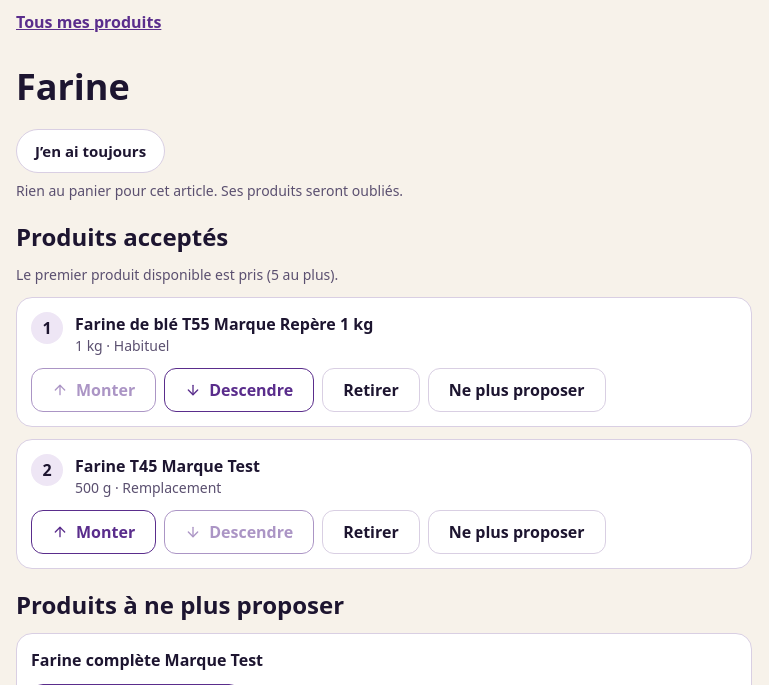
Scenario: Mes produits : un ingrédient › annule les modifications : l’état lu revient
The image size is (769, 685).
Click the button "Descendre" below "Farine de blé T55 Marque Repère 1 kg".
click(239, 390)  # box [164, 368, 314, 412]
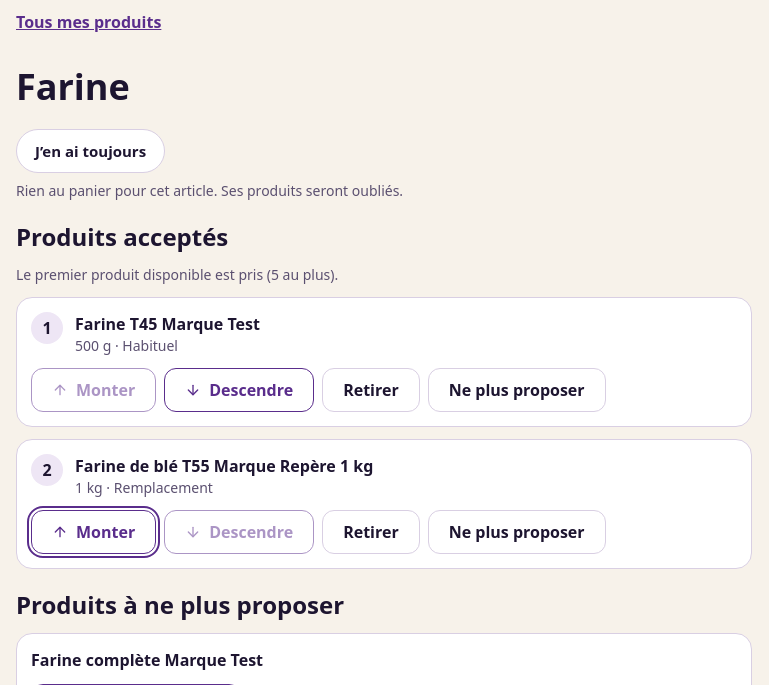
Click the button "Retirer" below "Farine T45 Marque Test".
click(371, 390)  # box [322, 368, 420, 412]
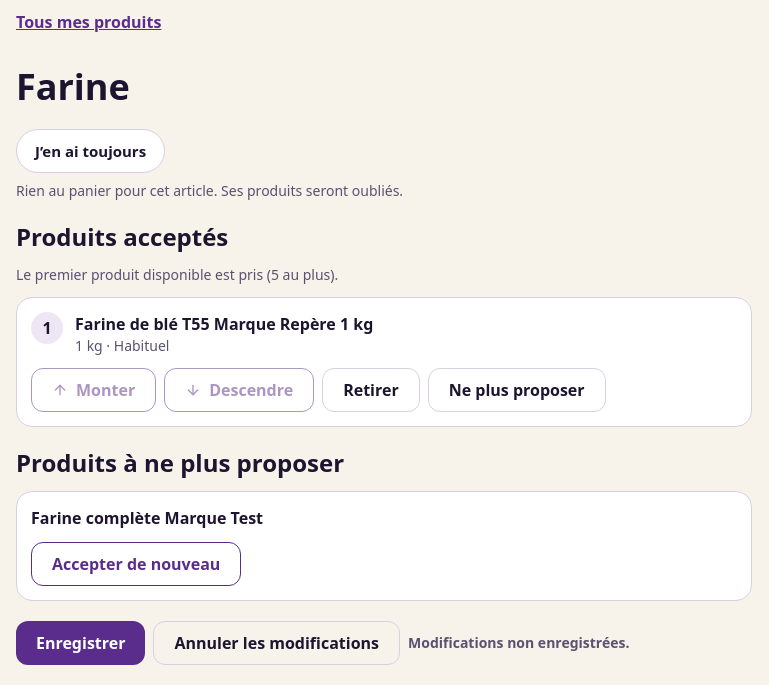
Click the button "Annuler les modifications".
click(277, 643)  # box [154, 621, 400, 665]
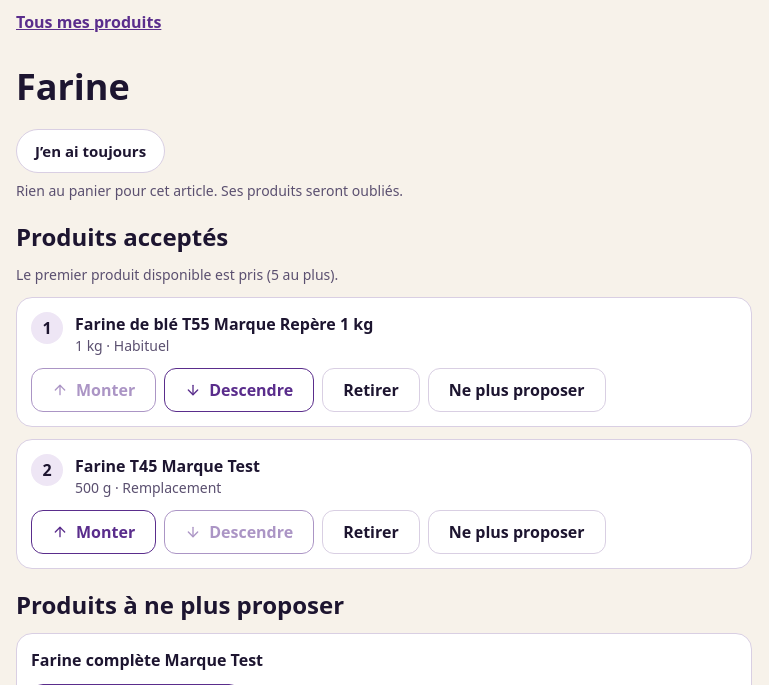
Now the text "Modifications non enregistrées" is gone
